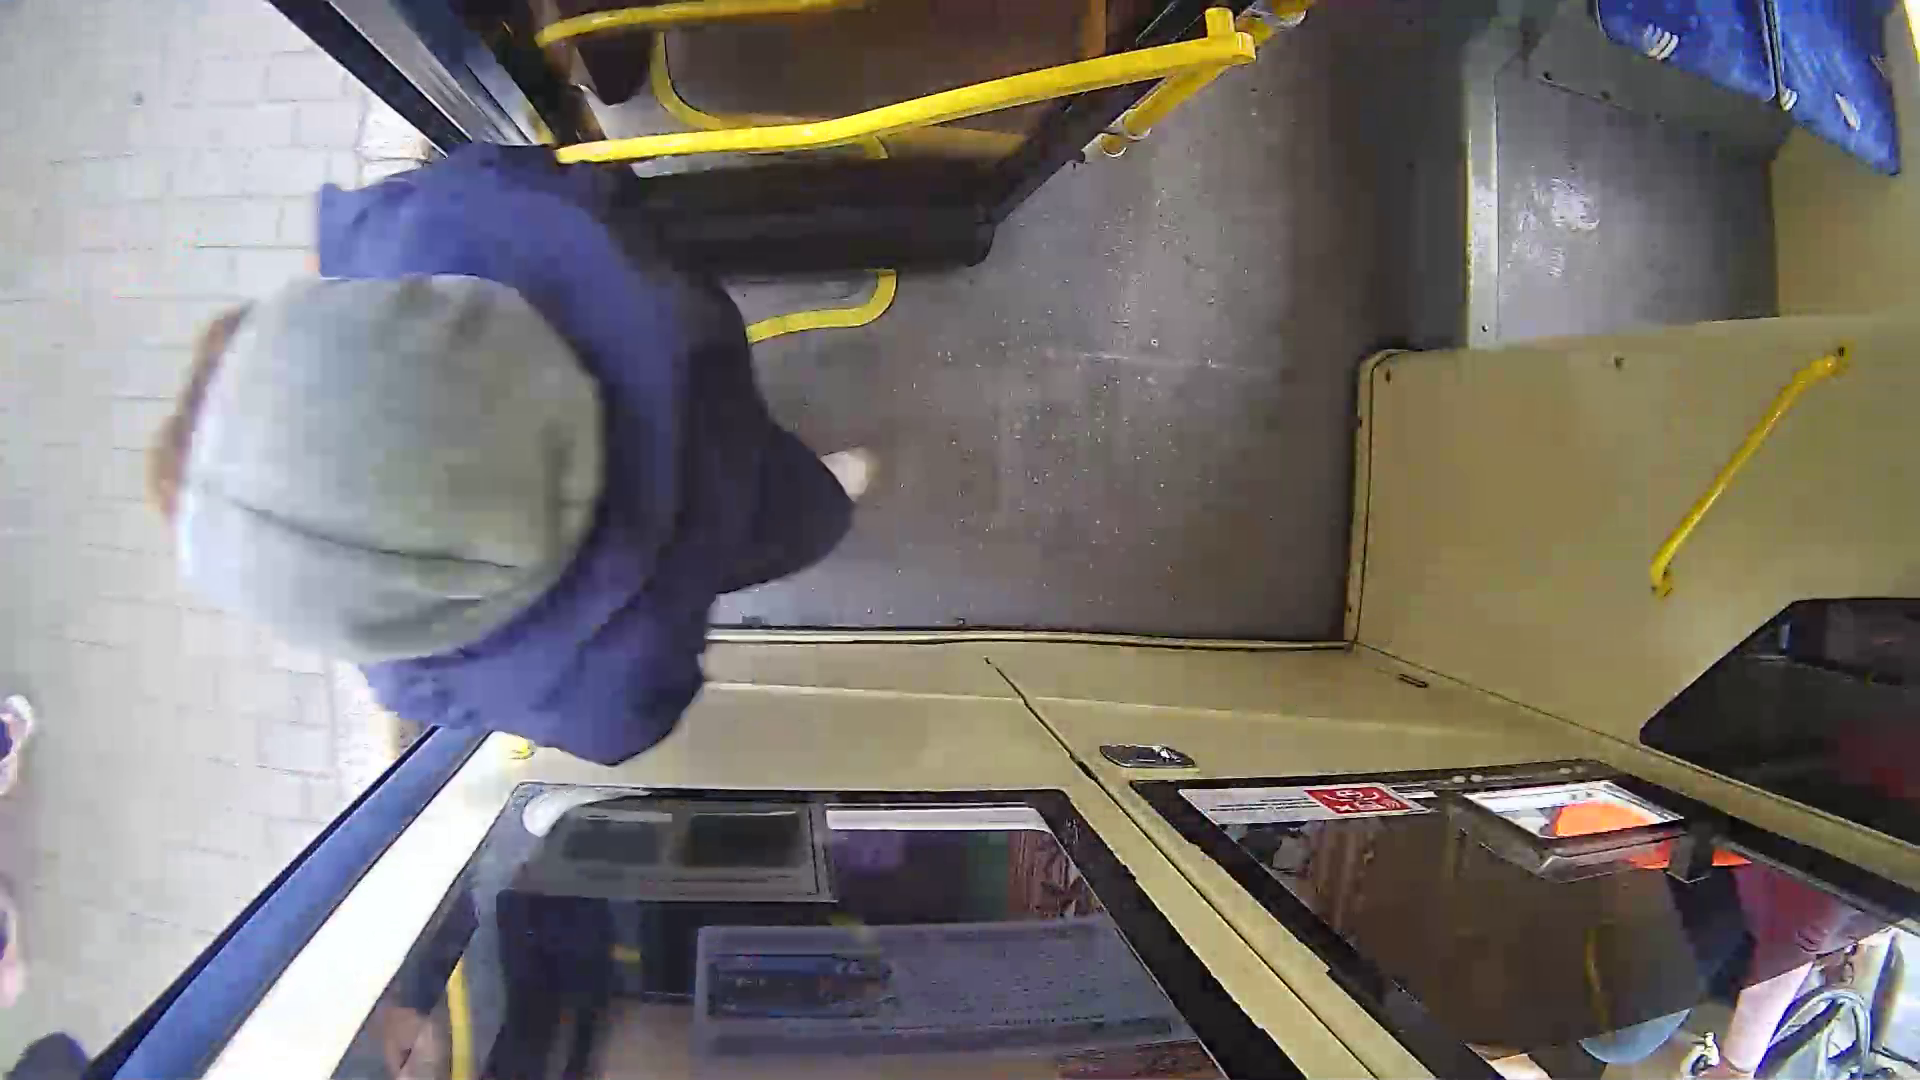person: (111, 123, 934, 853)
